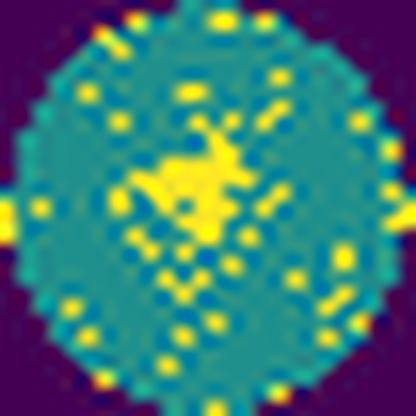Center: (114, 128, 262, 256)
